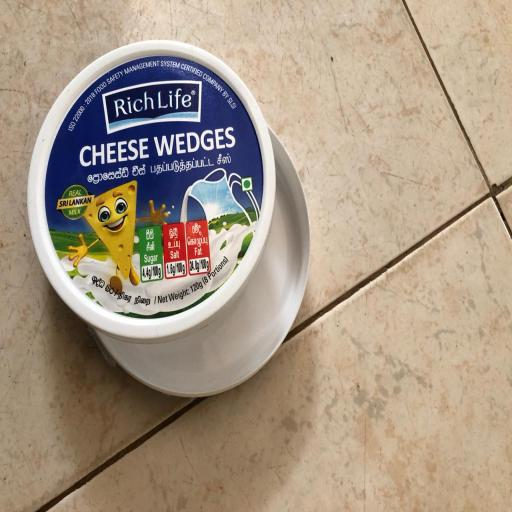waste: (22, 32, 332, 410)
